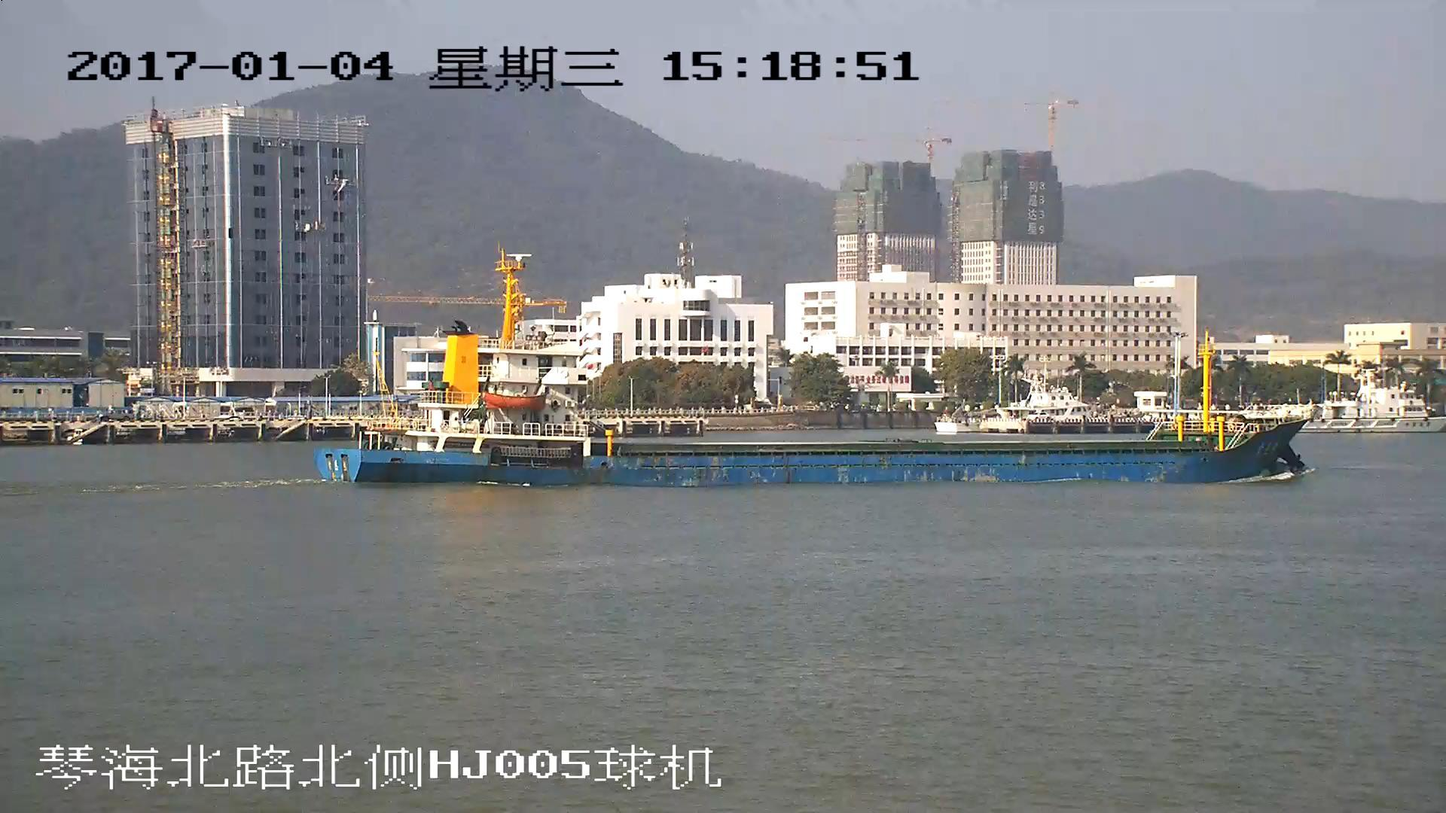general cargo ship: (319, 254, 1310, 485)
